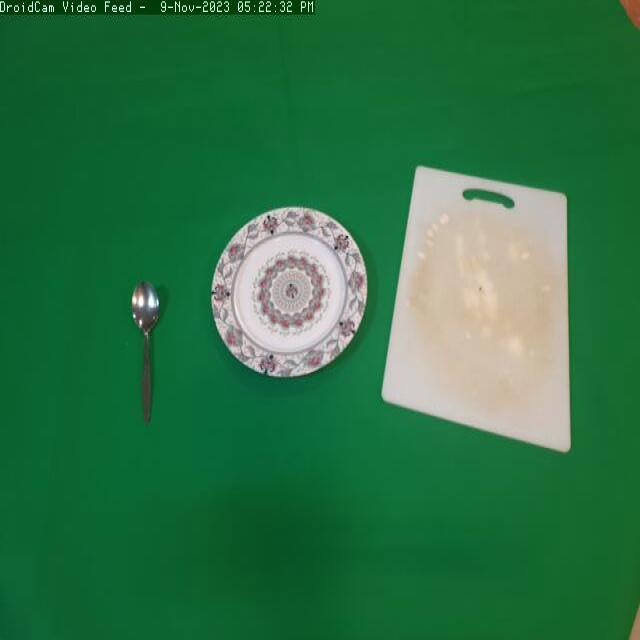cutting board: (378, 159, 583, 477)
plate: (206, 200, 376, 388)
spoon: (129, 256, 181, 436)
